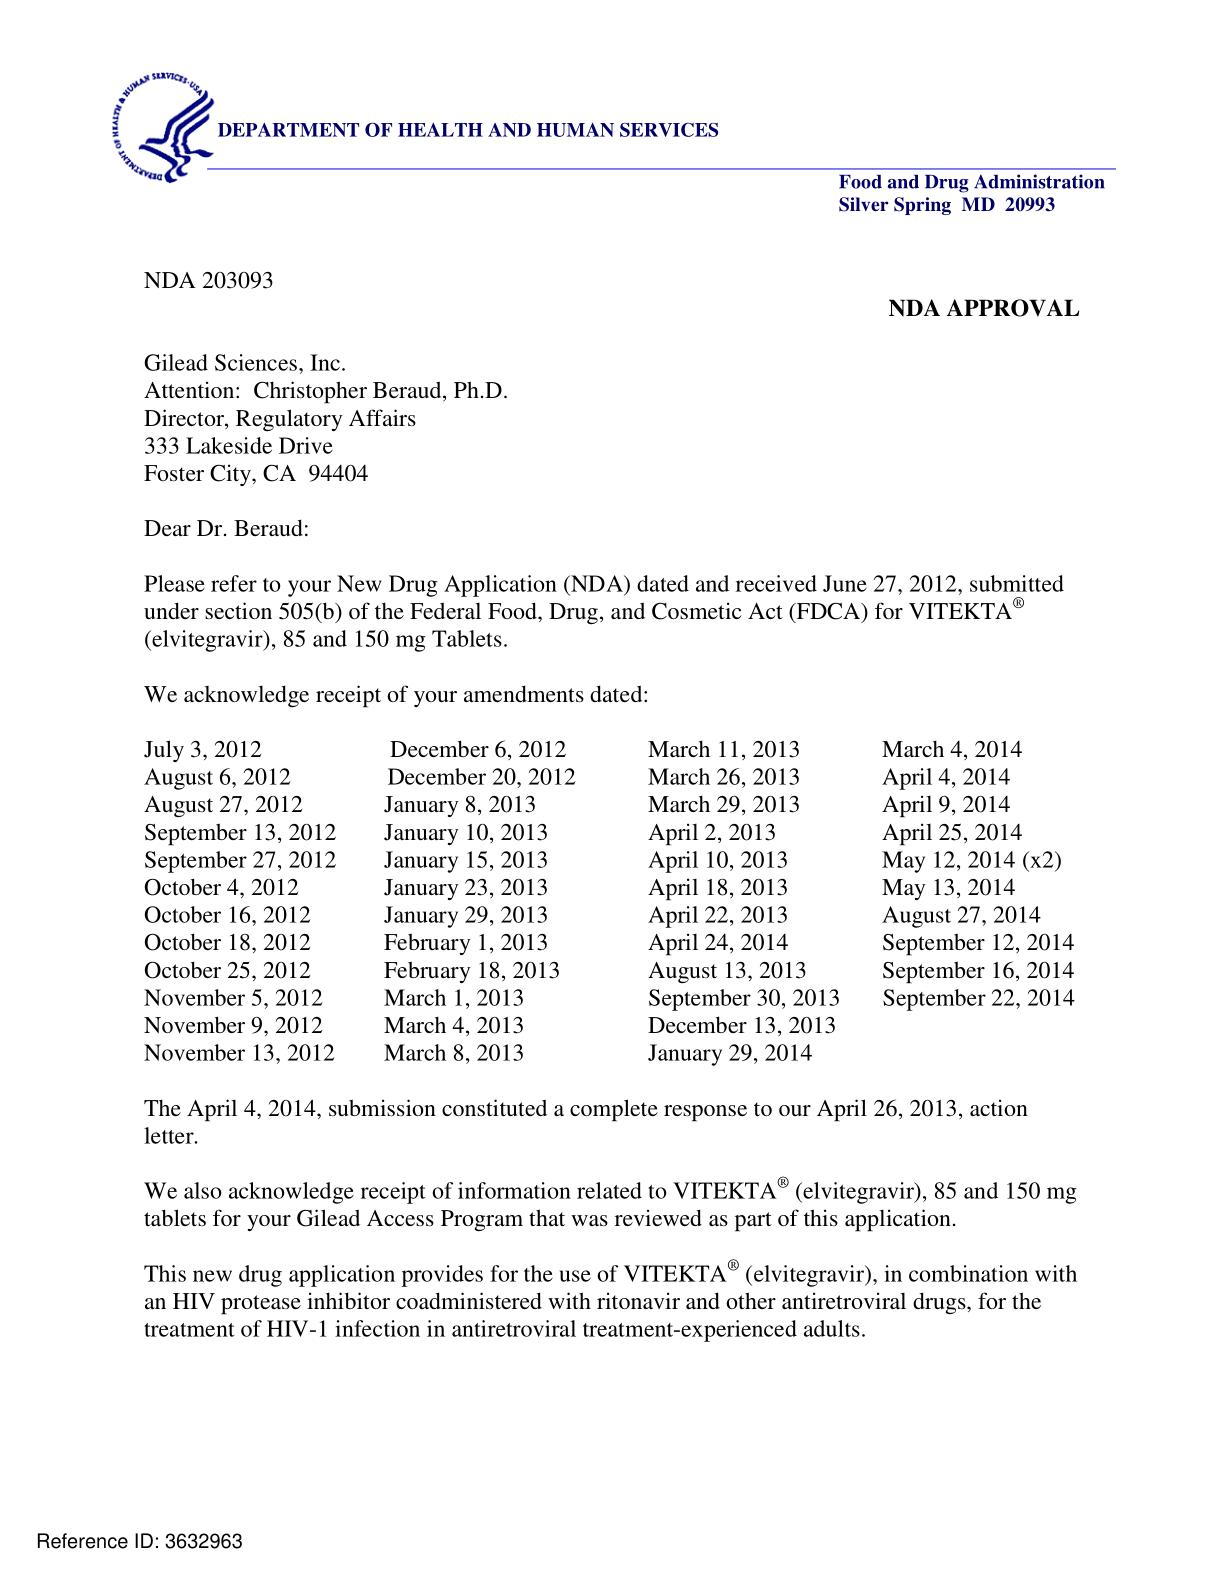nolines: (141, 735, 1083, 1068)
